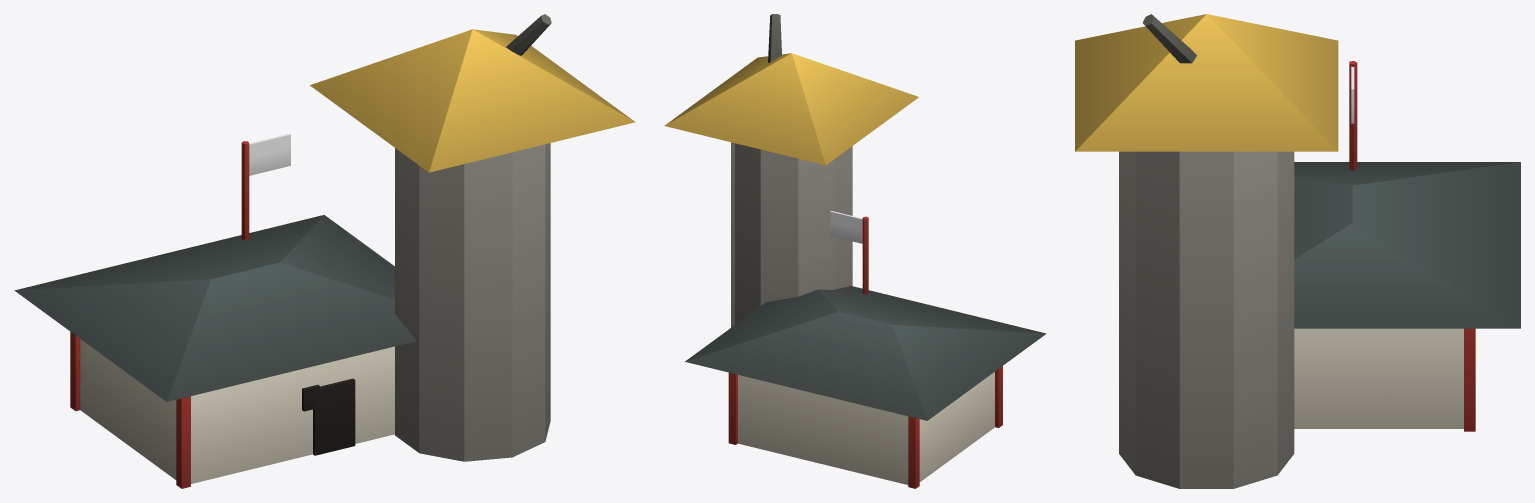
File: RESEARCH_EA.glb
The picture shows the model from 3 angles, left to right: view 1: azimuth 30°, elevation 25°; view 2: azimuth 150°, elevation 25°; view 3: azimuth 270°, elevation 25°; orthographic projection. The views are drawn at different scales.
Parts seen in each view (by area): view 1: Body, Flag; view 2: Body, Flag; view 3: Body.
Boxes of the visible parts, bbox=[...] form: Body: bbox=[14, 14, 635, 488]; Flag: bbox=[249, 133, 290, 175]; Body: bbox=[664, 14, 1046, 488]; Flag: bbox=[830, 211, 862, 243]; Body: bbox=[1075, 14, 1520, 488].
Size of the model in its own units: 3.65 by 3.5 by 3.05.
Materials: 1 (1 with a texture image).
